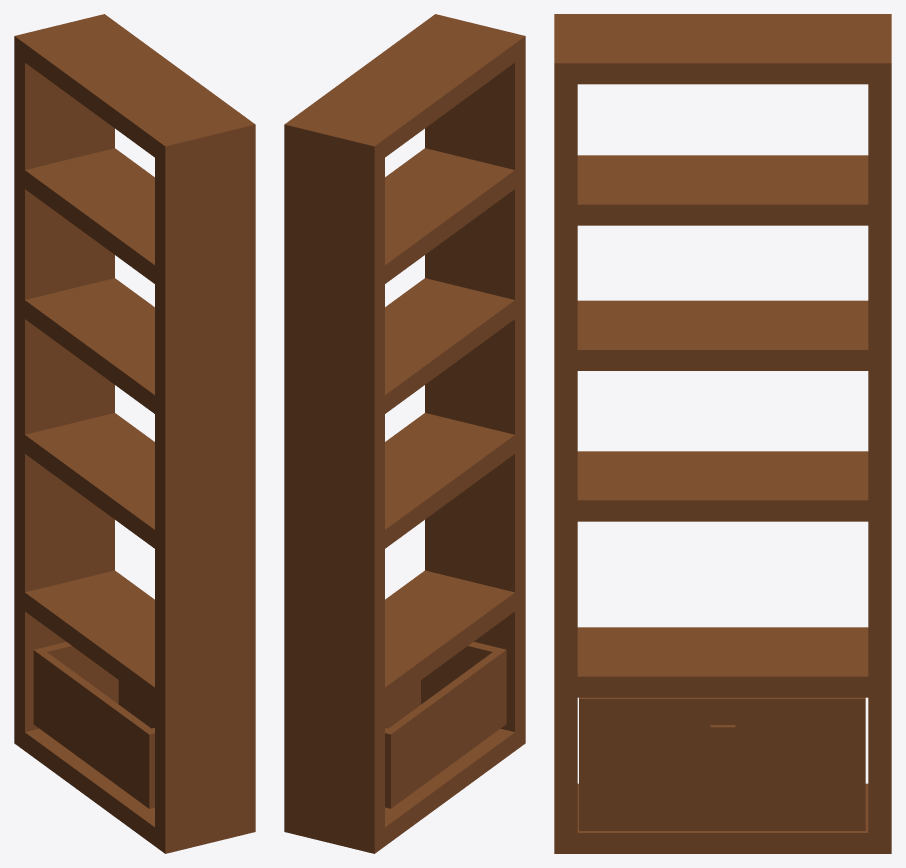
Rendered from Cabinet.glb.
The picture shows the model from 3 angles, left to right: view 1: azimuth 30°, elevation 25°; view 2: azimuth 150°, elevation 25°; view 3: azimuth 270°, elevation 25°; orthographic projection. The views are drawn at different scales.
Visible parts, largest first — view 1: Cabinet; view 2: Cabinet; view 3: Cabinet.
Boxes of the visible parts, x1=… form: Cabinet: x1=14, y1=14, x2=255, y2=853; Cabinet: x1=284, y1=14, x2=525, y2=853; Cabinet: x1=554, y1=14, x2=891, y2=853.
Bounding box in the file's own units: 1.53 × 10.33 × 4.
